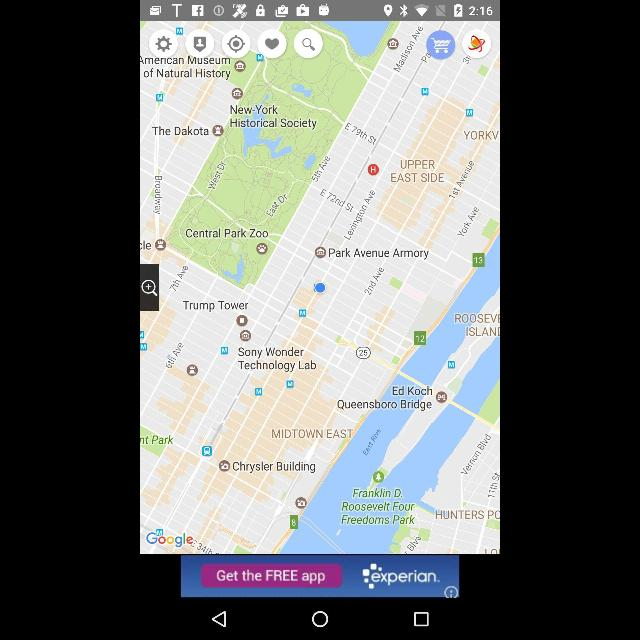icon: (462, 29, 492, 59), (257, 30, 287, 59), (294, 30, 324, 59), (186, 29, 214, 59), (222, 29, 250, 59), (427, 30, 455, 60), (150, 30, 178, 58), (211, 610, 227, 628), (312, 610, 328, 628), (413, 612, 429, 626)
iframe: (141, 554, 499, 598)
map: (140, 21, 500, 554)
panel: (140, 598, 500, 640)
uppertaskbar: (141, 2, 499, 20)
